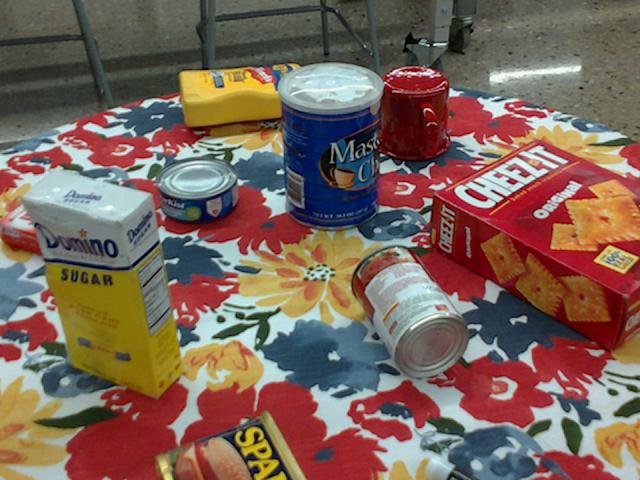cracker_box: (429, 139, 639, 352)
gelatin_box: (0, 184, 114, 263)
large_marker: (426, 455, 481, 479)
master_chef_can: (279, 63, 383, 231)
mug: (372, 67, 450, 161)
mustard_bottle: (177, 64, 334, 125)
potted_meat_can: (154, 410, 307, 479)
sugar_box: (19, 167, 183, 398)
tomato_soup_can: (350, 245, 471, 378)
tuna_fish_can: (154, 157, 237, 224)
